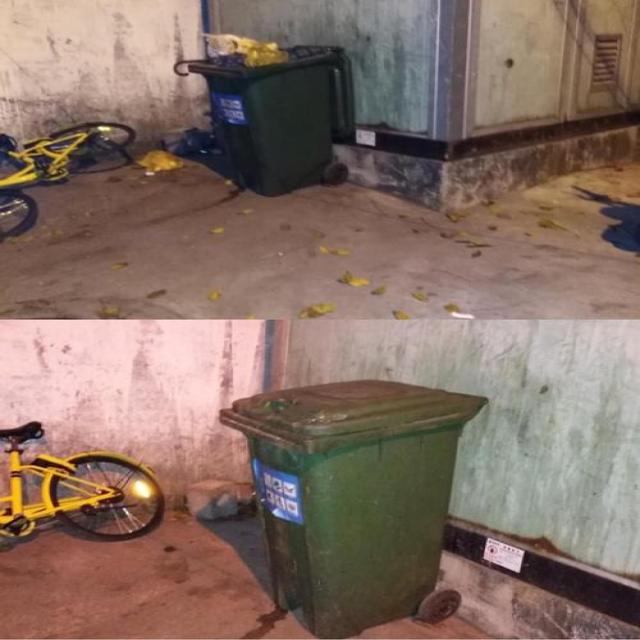garbage: (132, 126, 207, 175)
garbage_bin: (216, 379, 485, 639)
overflow: (173, 30, 357, 195)
